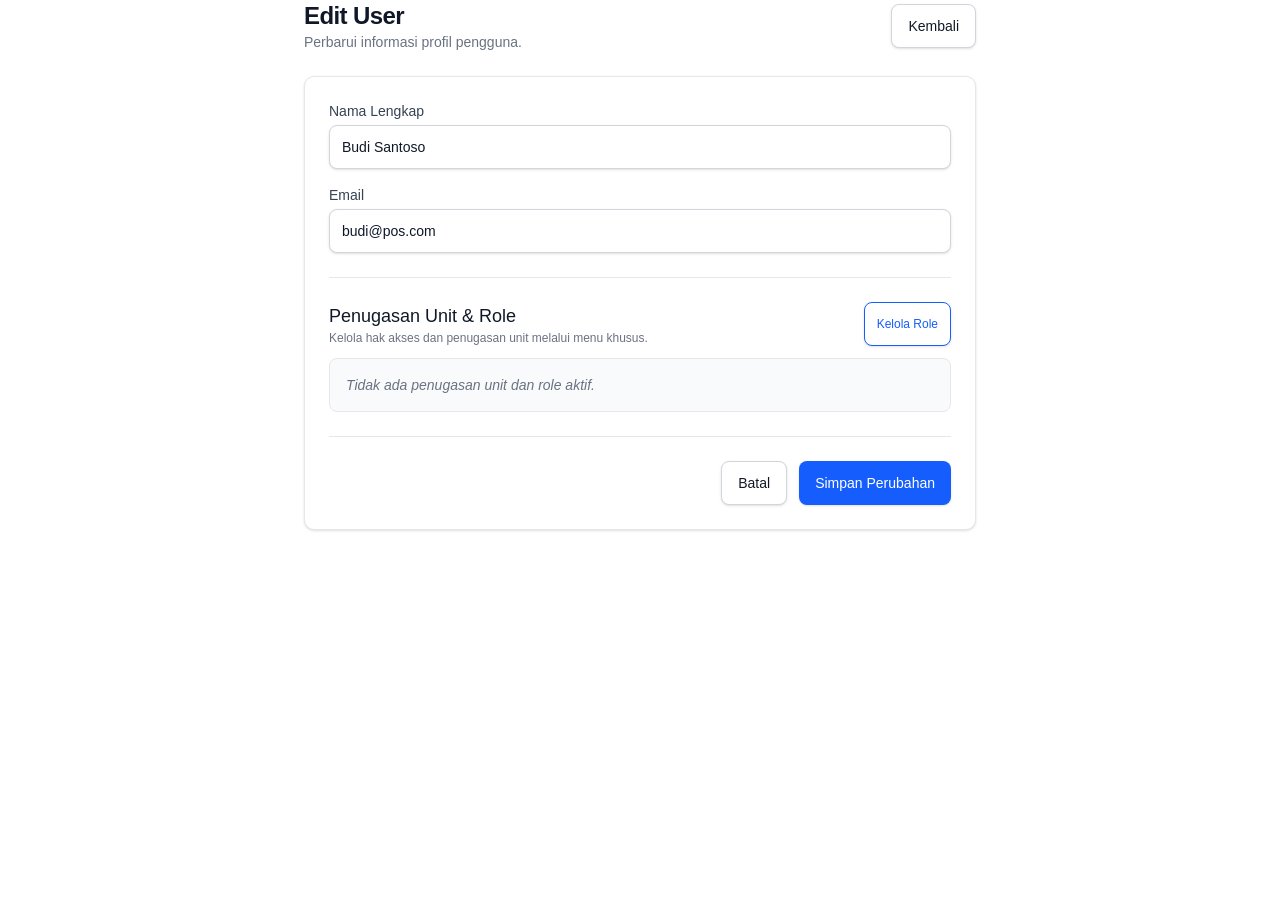
EditUserPage › opens ManageUserRolesModal when clicking Kelola Role shortcut button
expect the field showing "Budi Santoso" is shown: met, box [329,125,951,169]
Click the button "Kelola Role".
click(907, 324)  # box [864,302,951,346]
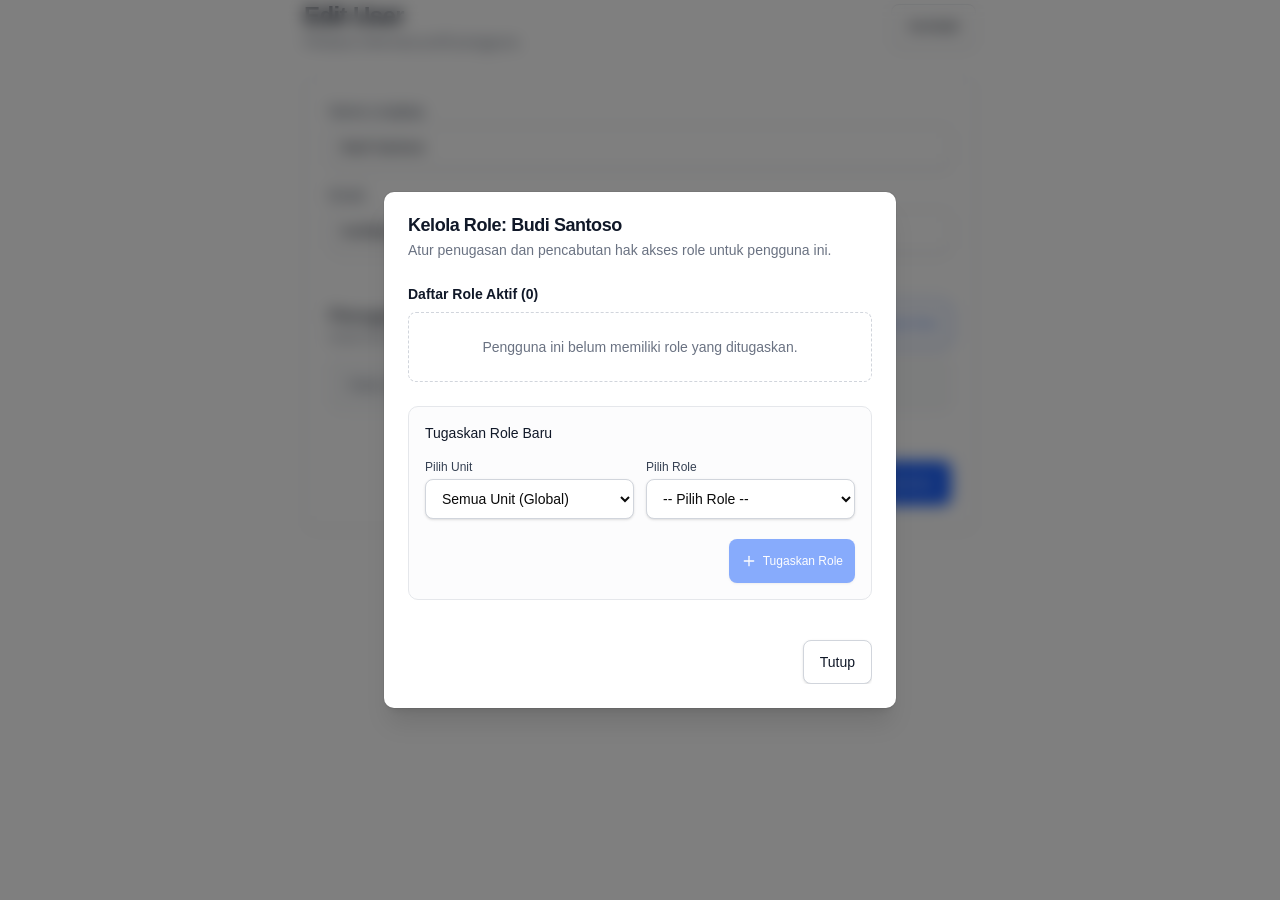
expect the heading "Kelola Role: Budi Santoso" is shown: met, box [408,216,622,235]
